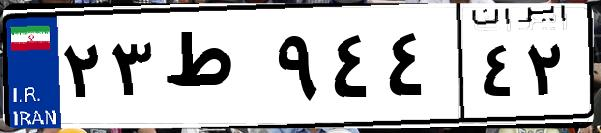2: (57, 26, 110, 100), (525, 38, 570, 115)
3: (110, 28, 158, 98)
4: (385, 28, 445, 110), (330, 28, 385, 110), (475, 38, 525, 113)
9: (270, 28, 330, 110)
ط: (158, 20, 270, 120)
